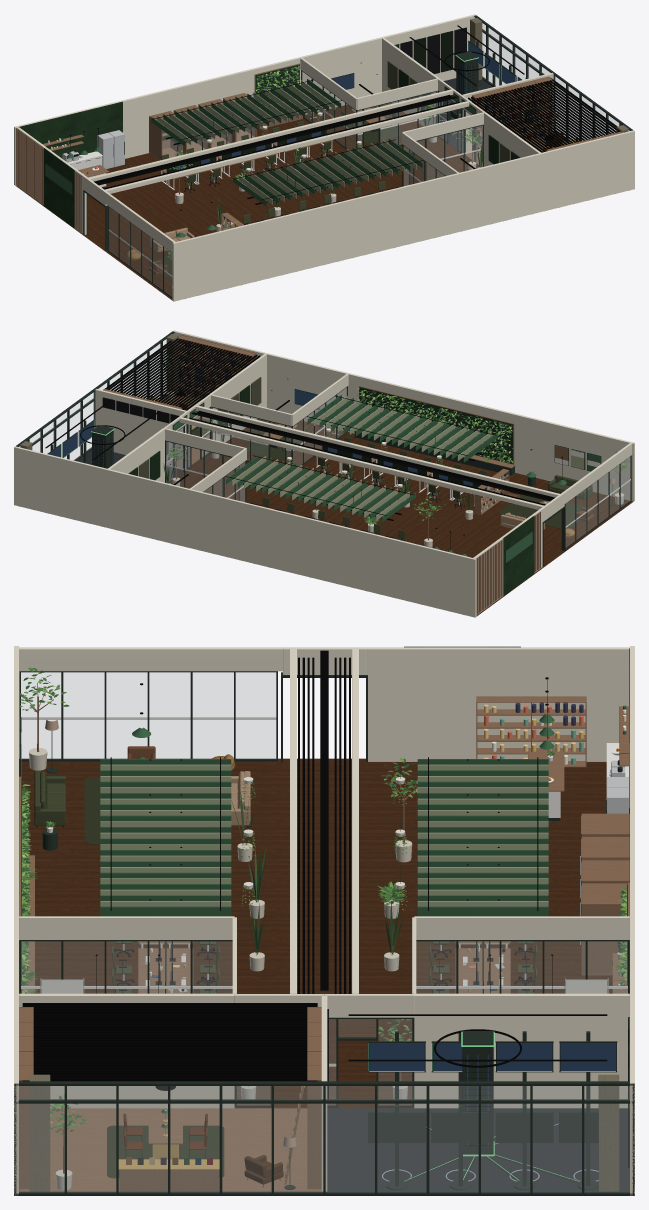
File: wing-forest.glb
3 renders of one model, top to bottom at view 1: azimuth 30°, elevation 25°; view 2: azimuth 150°, elevation 25°; view 3: azimuth 270°, elevation 25°, orthographic. The views are drawn at different scales.
Visible parts, largest first — view 1: wing-forest-baked-paint-wall, wing-forest-baked-floor, wing-forest-ceiling-felt, wing-forest-glass-glass, wing-forest-ceiling-wood, wing-forest-baked-metal-dark, wing-forest-baked-wood, wing-forest-baked-plaster-accent, wing-forest-baked-felt, wing-forest-ceiling-ceiling, wing-forest-baked-paint, wing-forest-baked-fabric (+8 smaller); view 2: wing-forest-baked-paint-wall, wing-forest-baked-floor, wing-forest-ceiling-felt, wing-forest-glass-glass, wing-forest-ceiling-wood, wing-forest-baked-metal-dark, wing-forest-baked-paint, wing-forest-ceiling-ceiling, wing-forest-baked-felt, wing-forest-baked-wood, wing-forest-baked-foliage, wing-forest-baked-fabric (+7 smaller); view 3: wing-forest-glass-glass, wing-forest-baked-paint-wall, wing-forest-baked-floor, wing-forest-ceiling-felt, wing-forest-baked-metal-dark, wing-forest-ceiling-wood, wing-forest-baked-wood-dark, wing-forest-baked-paint, wing-forest-baked-wood, wing-forest-baked-foliage, wing-forest-baked-fabric, wing-forest-baked-gloss (+14 smaller).
Part boxes in pixels (x1,y1,x2,y2): wing-forest-baked-paint-wall: (14, 14, 634, 301); wing-forest-baked-floor: (15, 103, 479, 300); wing-forest-ceiling-felt: (151, 79, 422, 206); wing-forest-glass-glass: (104, 23, 621, 296); wing-forest-ceiling-wood: (94, 78, 619, 189); wing-forest-baked-metal-dark: (45, 15, 632, 298); wing-forest-baked-wood: (16, 63, 385, 232); wing-forest-baked-plaster-accent: (18, 101, 122, 227); wing-forest-baked-felt: (148, 27, 520, 280); wing-forest-ceiling-ceiling: (89, 89, 469, 193); wing-forest-baked-paint: (162, 64, 577, 228); wing-forest-baked-fabric: (127, 104, 558, 275); wing-forest-baked-paint-wall: (14, 330, 634, 617); wing-forest-baked-floor: (169, 419, 633, 616); wing-forest-ceiling-felt: (226, 395, 497, 522); wing-forest-glass-glass: (27, 339, 630, 547); wing-forest-ceiling-wood: (103, 338, 554, 505); wing-forest-baked-metal-dark: (16, 331, 631, 566); wing-forest-baked-paint: (77, 339, 600, 540); wing-forest-ceiling-ceiling: (179, 405, 559, 509); wing-forest-baked-felt: (102, 377, 594, 528); wing-forest-baked-wood: (263, 386, 549, 614); wing-forest-baked-foliage: (162, 353, 629, 525); wing-forest-baked-fabric: (179, 403, 615, 539); wing-forest-glass-glass: (19, 672, 629, 1192); wing-forest-baked-paint-wall: (14, 646, 634, 1195); wing-forest-baked-floor: (19, 758, 629, 1191); wing-forest-ceiling-felt: (100, 759, 548, 916); wing-forest-baked-metal-dark: (14, 671, 634, 1195); wing-forest-ceiling-wood: (22, 657, 350, 1081); wing-forest-baked-wood-dark: (19, 682, 417, 1191); wing-forest-baked-paint: (21, 717, 629, 1191); wing-forest-baked-wood: (19, 696, 629, 993); wing-forest-baked-foliage: (20, 667, 626, 1134); wing-forest-baked-fabric: (34, 719, 537, 1149); wing-forest-baked-gloss: (29, 702, 626, 1190).
Size of what is drawn, in the model's own units: 30 by 3.98 by 18.
Materials: 28 (9 with a texture image).
